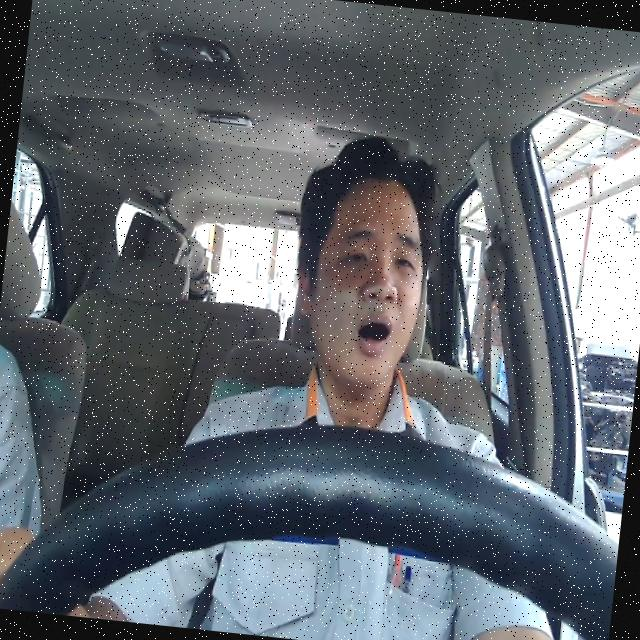yarning: (284, 165, 434, 394)
